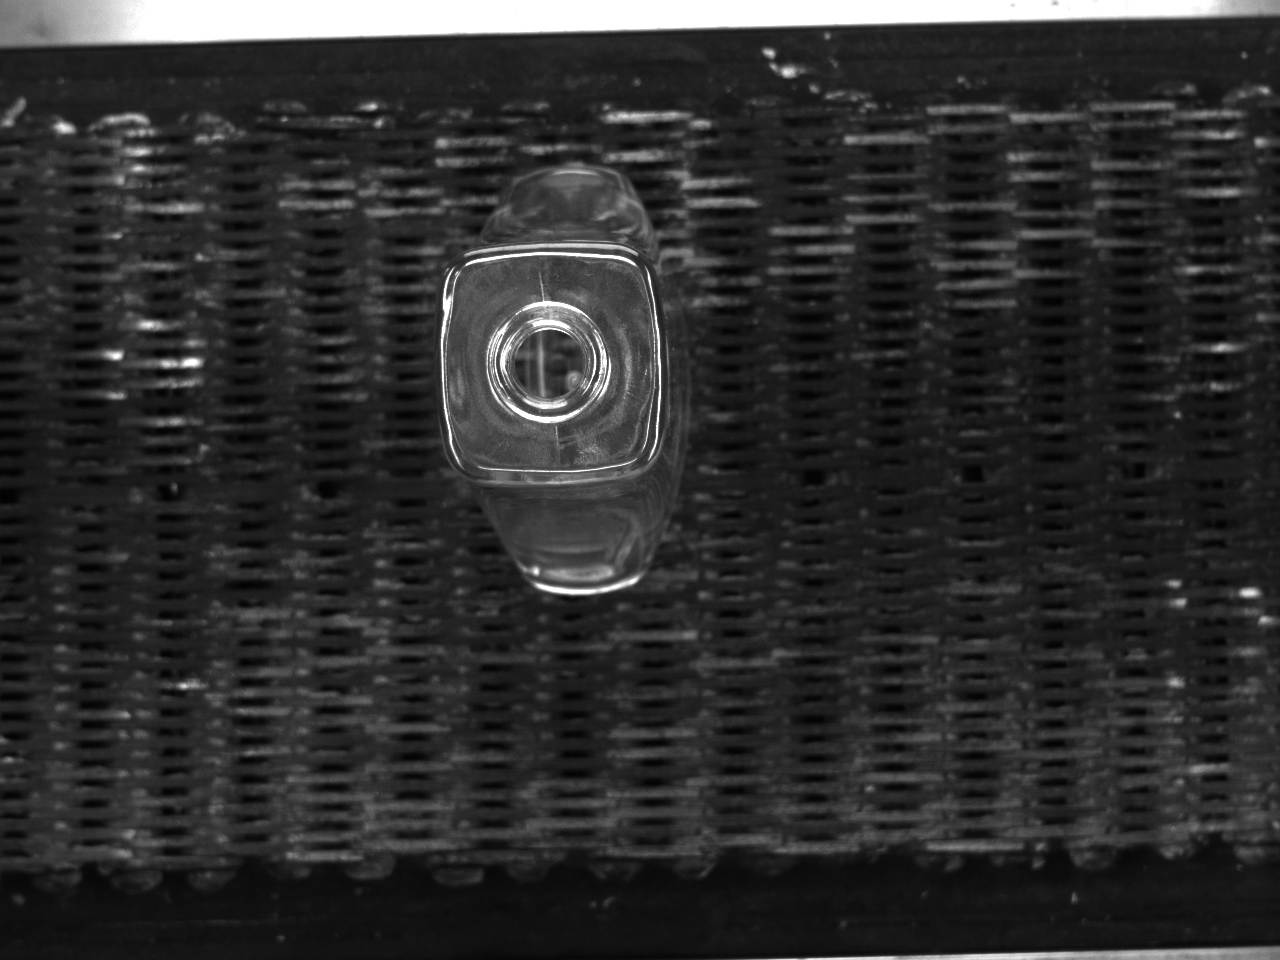bottleneck: (485, 301, 612, 422)
